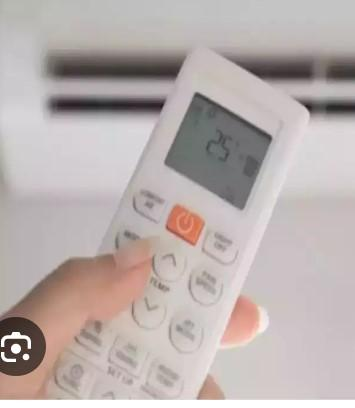Remote control: (41, 45, 311, 401)
